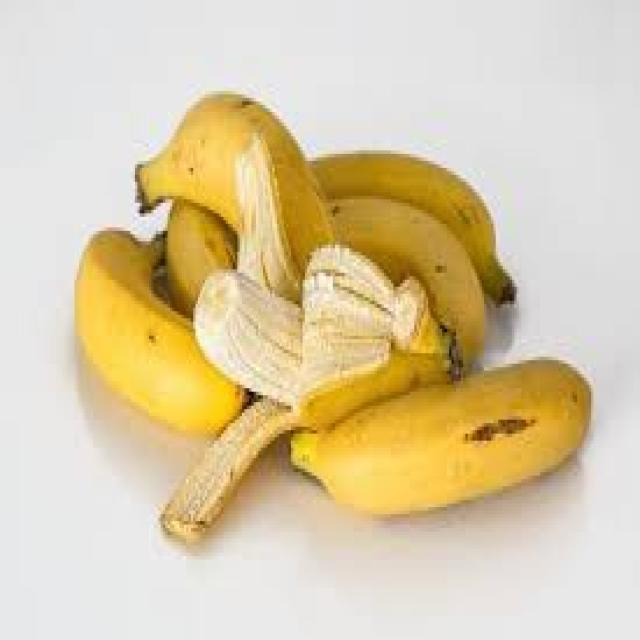pisang: (129, 103, 573, 515), (261, 140, 513, 346), (68, 208, 271, 449), (276, 369, 607, 508), (207, 261, 448, 404)
